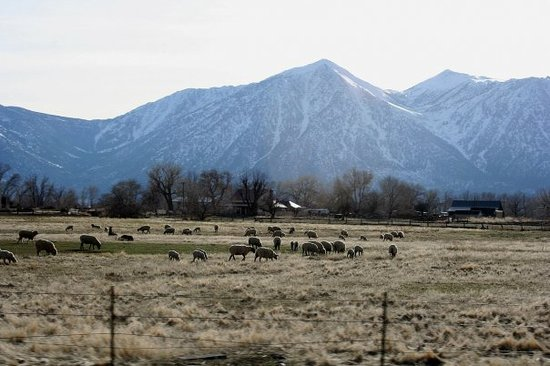sheep: (229, 244, 255, 261), (35, 239, 57, 256), (78, 235, 100, 251), (256, 246, 278, 262), (309, 239, 326, 256), (1, 249, 18, 265), (300, 242, 319, 256), (17, 231, 39, 242), (318, 238, 333, 253), (192, 249, 206, 263), (332, 241, 346, 255), (167, 248, 179, 262), (388, 243, 398, 258), (249, 237, 262, 248), (137, 225, 152, 234), (305, 230, 318, 239), (274, 237, 282, 251), (181, 228, 195, 236), (353, 246, 364, 256), (163, 227, 175, 236), (383, 233, 393, 241), (391, 231, 398, 239), (398, 230, 405, 238)
